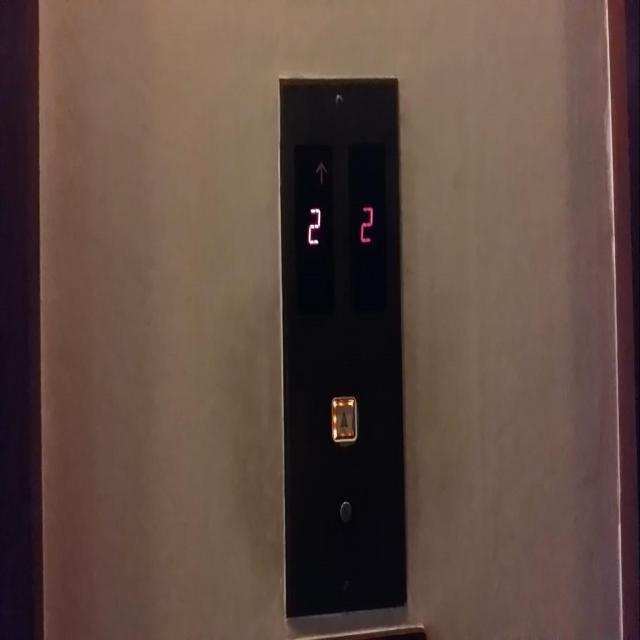blur: (339, 498, 352, 524)
led: (345, 142, 383, 315), (294, 141, 331, 309)
up: (331, 392, 356, 443)
